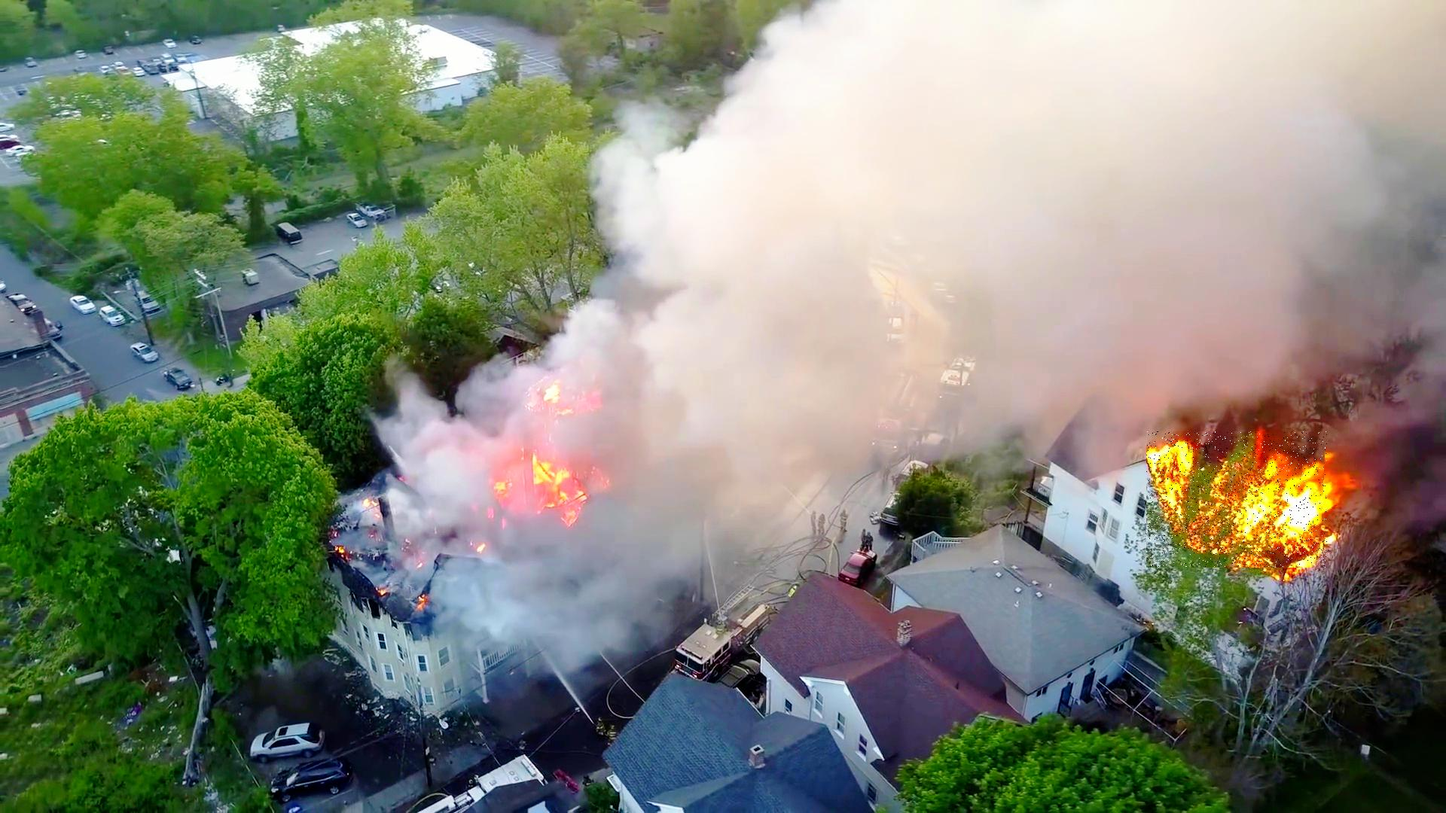fire: (1147, 431, 1328, 568)
